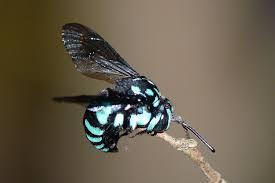Thyreus: (55, 18, 219, 161)
